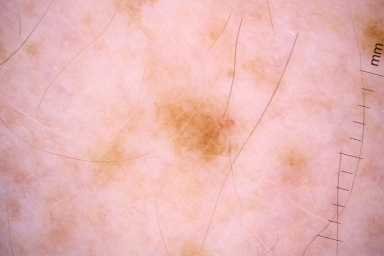nevus: (174, 110, 235, 157)
